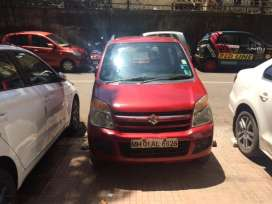license_plate: (130, 138, 178, 148)
